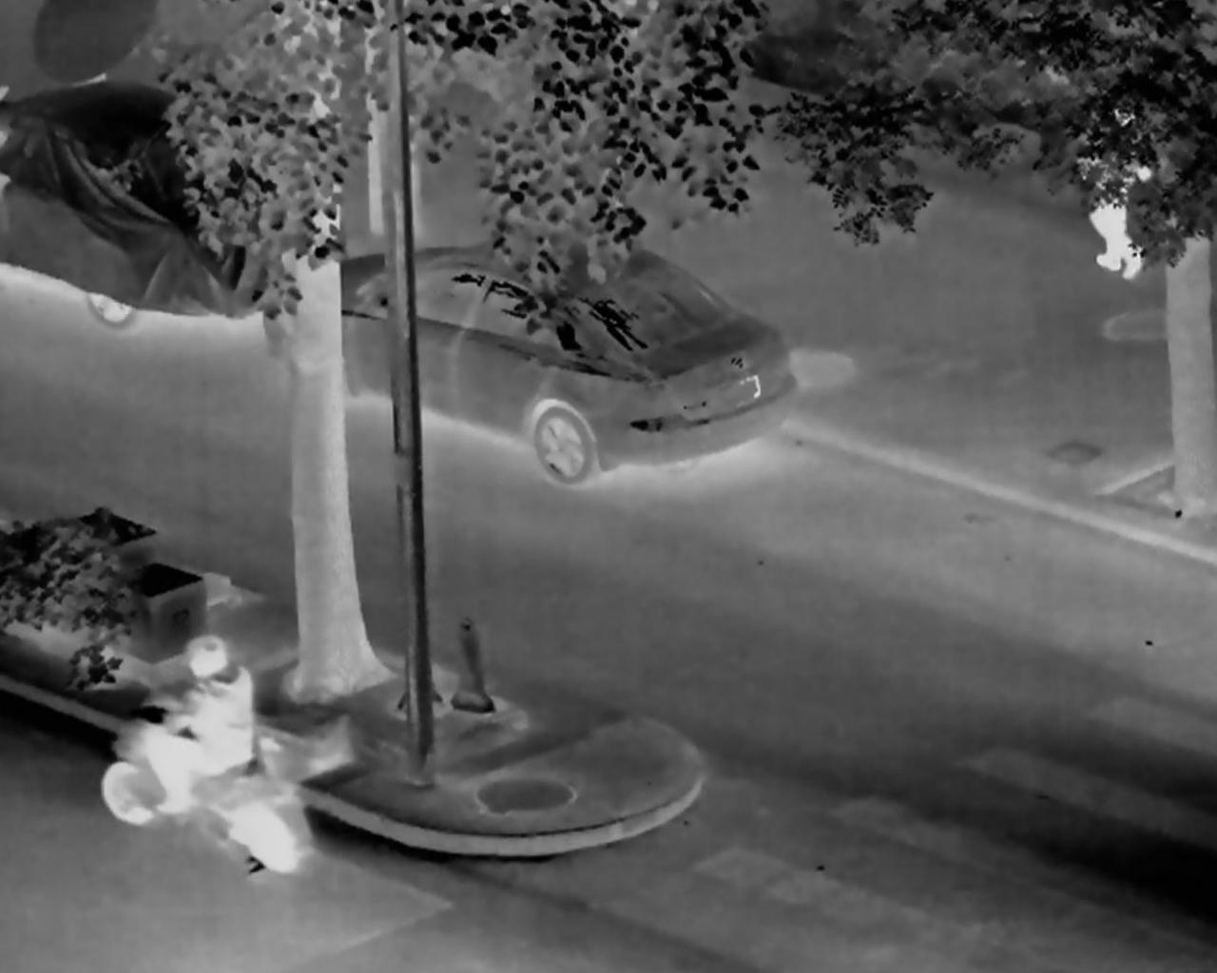person: (134, 641, 259, 819), (1072, 74, 1150, 277)
